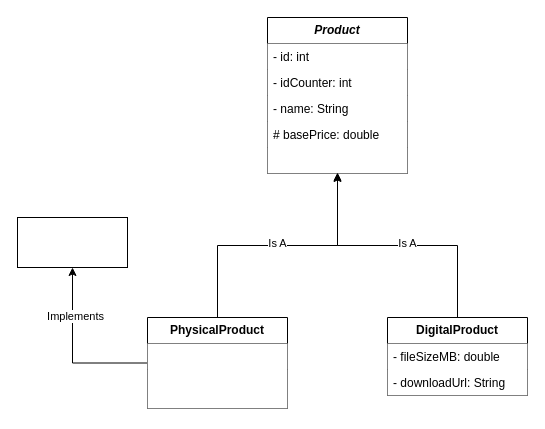
Some shapes in this 545 by 429 pixel diagram are drawn without their labels. Each missing label, with the centre of its shape:
- category: String: the point at 337,160
- shippingfeePerKg: double: the point at 217,388
- weightKg: double: the point at 217,356
«interface» Shippable: the point at 72,242
